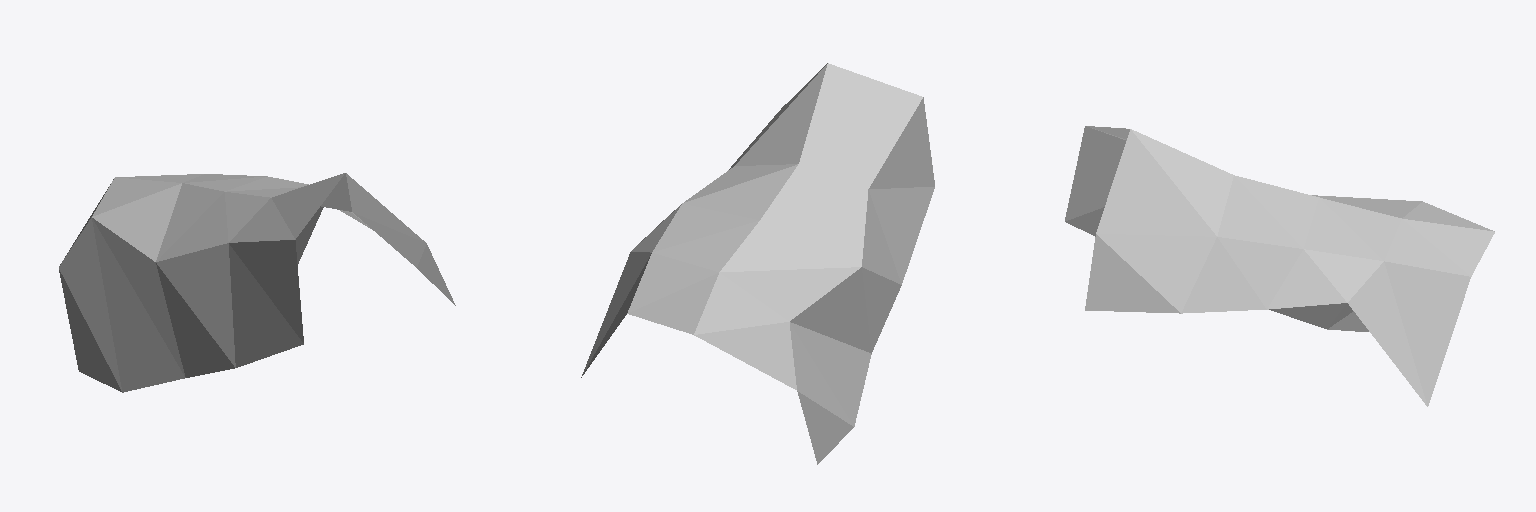
The model's file is shoe top2.obj.
3 renders of one model, left to right at view 1: azimuth 30°, elevation 25°; view 2: azimuth 150°, elevation 25°; view 3: azimuth 270°, elevation 25°, orthographic.
Visible parts, largest first — view 1: shoe_top; view 2: shoe_top; view 3: shoe_top.
Boxes of the visible parts, x1=… form: shoe_top: x1=59, y1=173, x2=455, y2=392; shoe_top: x1=581, y1=63, x2=934, y2=464; shoe_top: x1=1065, y1=126, x2=1494, y2=406.
Bounding box in the file's own units: 52.45 × 59.47 × 86.37.